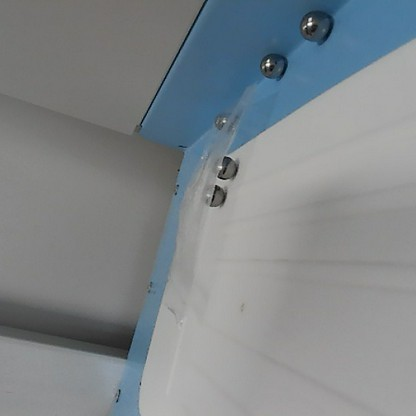ironball: (298, 9, 335, 44), (253, 50, 289, 81), (198, 179, 229, 210), (209, 151, 237, 178), (213, 111, 234, 134)
